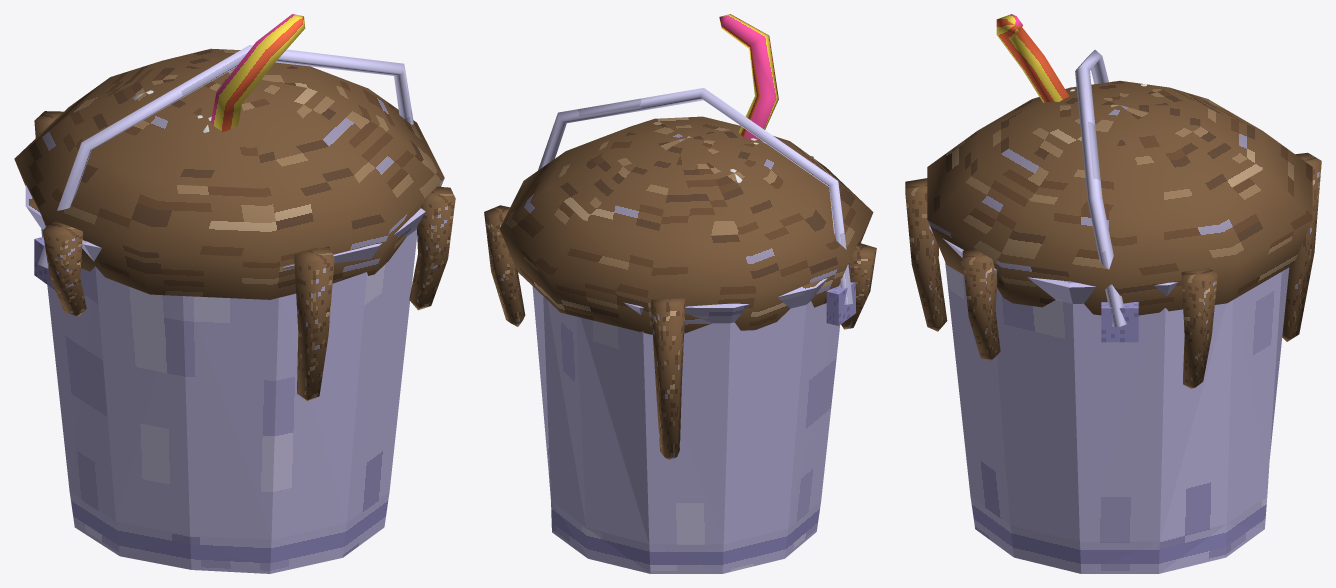
Rendered from Mud Bucket.fbx.
3 renders of one model, left to right at view 1: azimuth 30°, elevation 25°; view 2: azimuth 150°, elevation 25°; view 3: azimuth 270°, elevation 25°, orthographic. The views are drawn at different scales.
Parts seen in each view (by area): view 1: Mud Bucket pail, Mud Bucket mud heap, Mud Bucket handle.001, Mud Bucket drip 3, Mud Bucket worm, Mud Bucket drip 4, Mud Bucket drip 2; view 2: Mud Bucket pail, Mud Bucket mud heap, Mud Bucket handle.001, Mud Bucket drip 1, Mud Bucket worm, Mud Bucket drip 0, Mud Bucket drip 2, Mud Bucket ear -1; view 3: Mud Bucket pail, Mud Bucket mud heap, Mud Bucket handle.001, Mud Bucket drip 3, Mud Bucket drip 0, Mud Bucket drip 4, Mud Bucket drip 1, Mud Bucket worm, Mud Bucket ear 1.
Part boxes in pixels (x1,y1,x2,y2): Mud Bucket pail: (25, 185, 425, 573); Mud Bucket mud heap: (14, 48, 444, 299); Mud Bucket handle.001: (38, 45, 413, 268); Mud Bucket drip 3: (294, 246, 334, 401); Mud Bucket worm: (210, 14, 305, 131); Mud Bucket drip 4: (409, 186, 455, 310); Mud Bucket drip 2: (42, 220, 86, 316); Mud Bucket pail: (532, 278, 839, 573); Mud Bucket mud heap: (499, 116, 873, 334); Mud Bucket handle.001: (538, 88, 852, 304); Mud Bucket drip 1: (651, 298, 685, 460); Mud Bucket worm: (719, 14, 778, 139); Mud Bucket drip 0: (484, 205, 525, 326); Mud Bucket drip 2: (841, 242, 876, 329); Mud Bucket ear -1: (826, 282, 855, 325); Mud Bucket pail: (929, 225, 1289, 573); Mud Bucket mud heap: (927, 80, 1312, 315); Mud Bucket handle.001: (1075, 50, 1126, 326); Mud Bucket drip 3: (905, 178, 947, 331); Mud Bucket drip 0: (1181, 268, 1217, 388); Mud Bucket drip 4: (962, 248, 1000, 360); Mud Bucket drip 1: (1282, 152, 1321, 341); Mud Bucket worm: (996, 14, 1069, 102); Mud Bucket ear 1: (1101, 302, 1138, 342).
Bounding box in the file's own units: 0.339 × 0.4414 × 0.3334.
6 materials, 5 textured.
